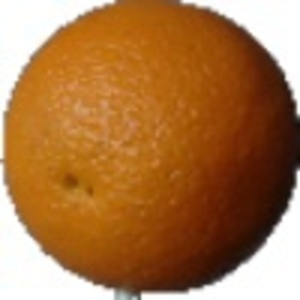laranja: (3, 3, 294, 298)
